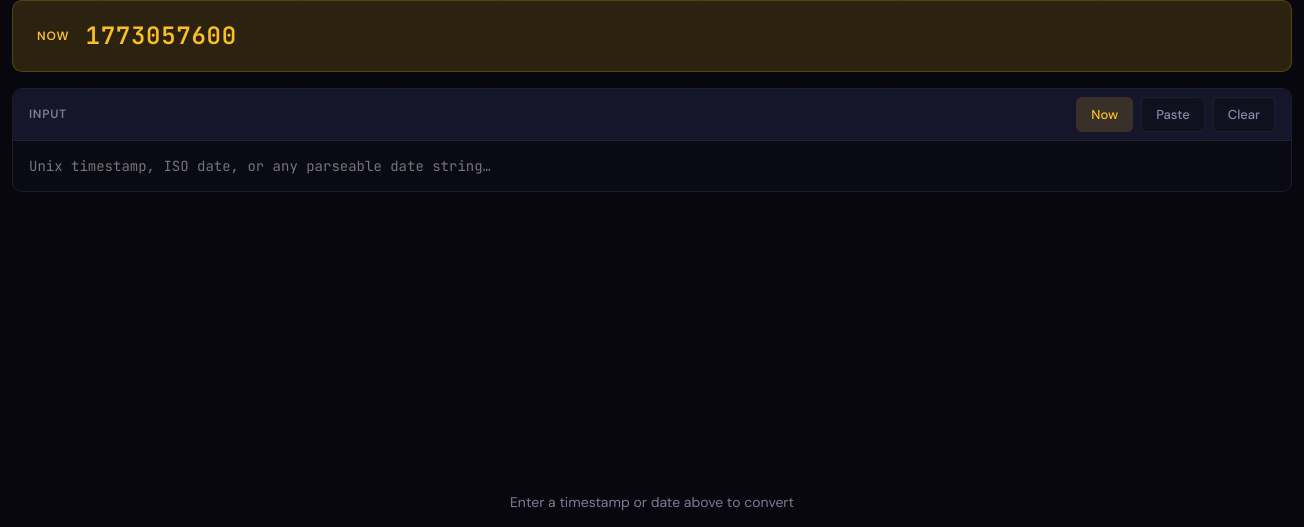
Test case: TimestampConverter › converts unix timestamp (seconds)
Step 1. Type "1000000000" into the field named "timestamp or date input" → [652, 166], box 13,141 -> 1291,191
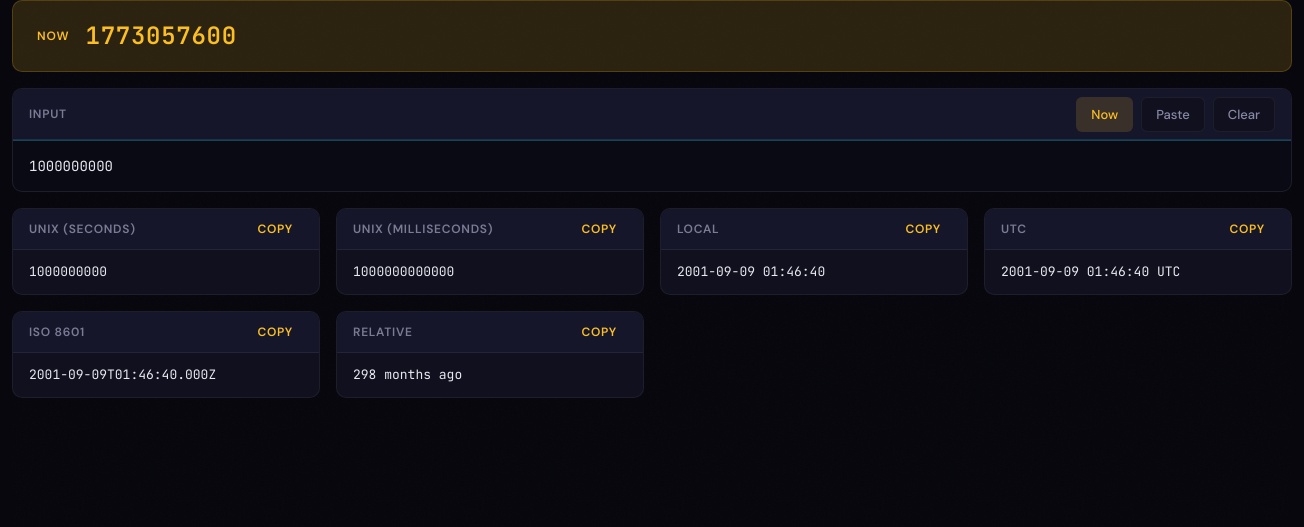
Expected: the text "ISO 8601" is shown, 29,323 -> 85,342
Expected: the text "2001-09-09T01:46:40.000Z" is shown, 29,366 -> 216,383
